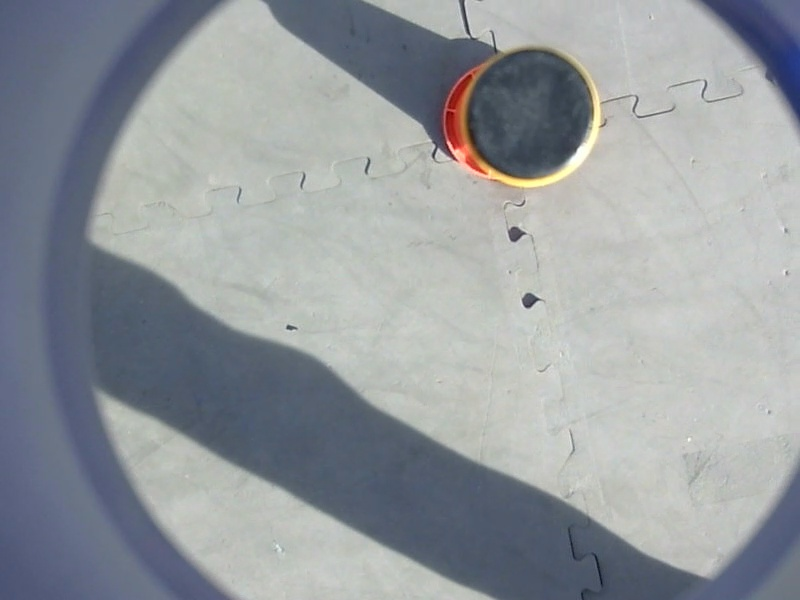tip: (455, 40, 607, 196)
